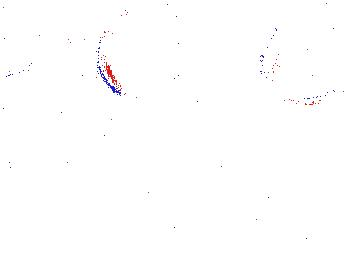moon jellyfish: (98, 3, 193, 101), (260, 4, 346, 106), (1, 9, 39, 78)
